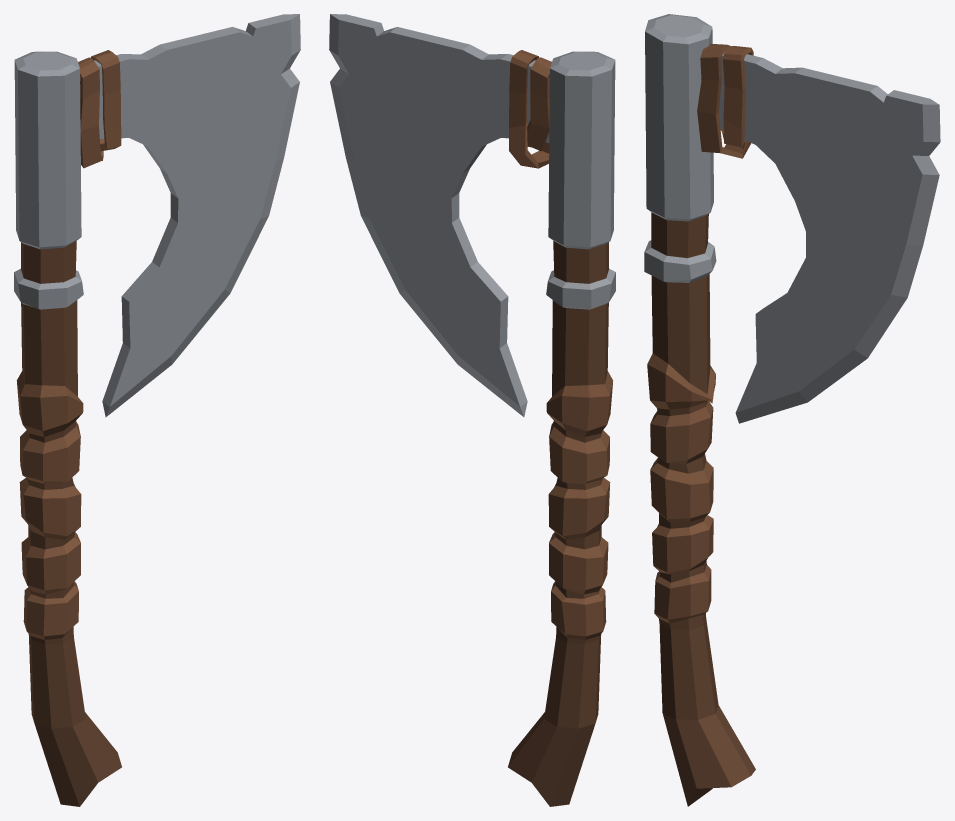
The model's file is Axe_Small.glb.
3 views of the same model, side by side, from view 1: azimuth 30°, elevation 25°; view 2: azimuth 150°, elevation 25°; view 3: azimuth 330°, elevation 25° (orthographic). The views are drawn at different scales.
Parts seen in each view (by area): view 1: Axe_small; view 2: Axe_small; view 3: Axe_small.
Boxes of the visible parts, x1,y1,x2,y2 form: Axe_small: (14, 14, 300, 806); Axe_small: (329, 14, 615, 806); Axe_small: (644, 14, 940, 806).
Size of the model in its own units: 1.17 by 2.96 by 0.2483.
